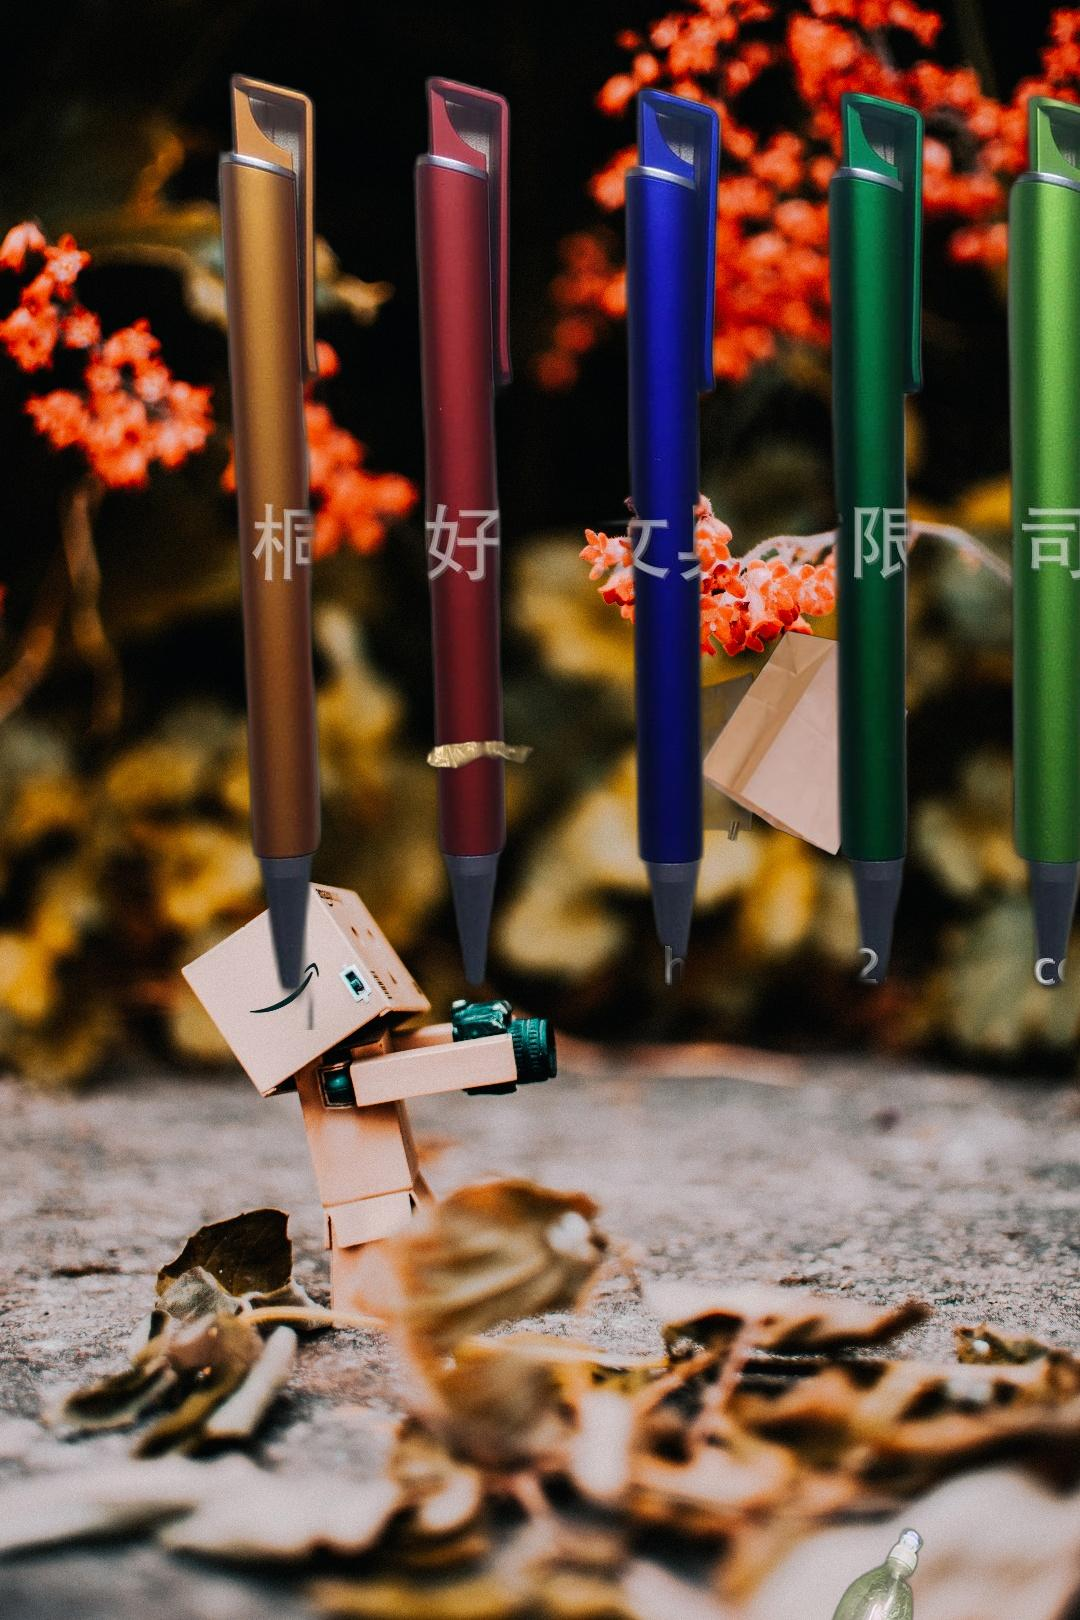paper-bag: (681, 627, 912, 858)
penholder: (209, 39, 1080, 1031)
plastic-bottles: (787, 1442, 1080, 1620)
trashbox-cardboard: (146, 501, 544, 771)
